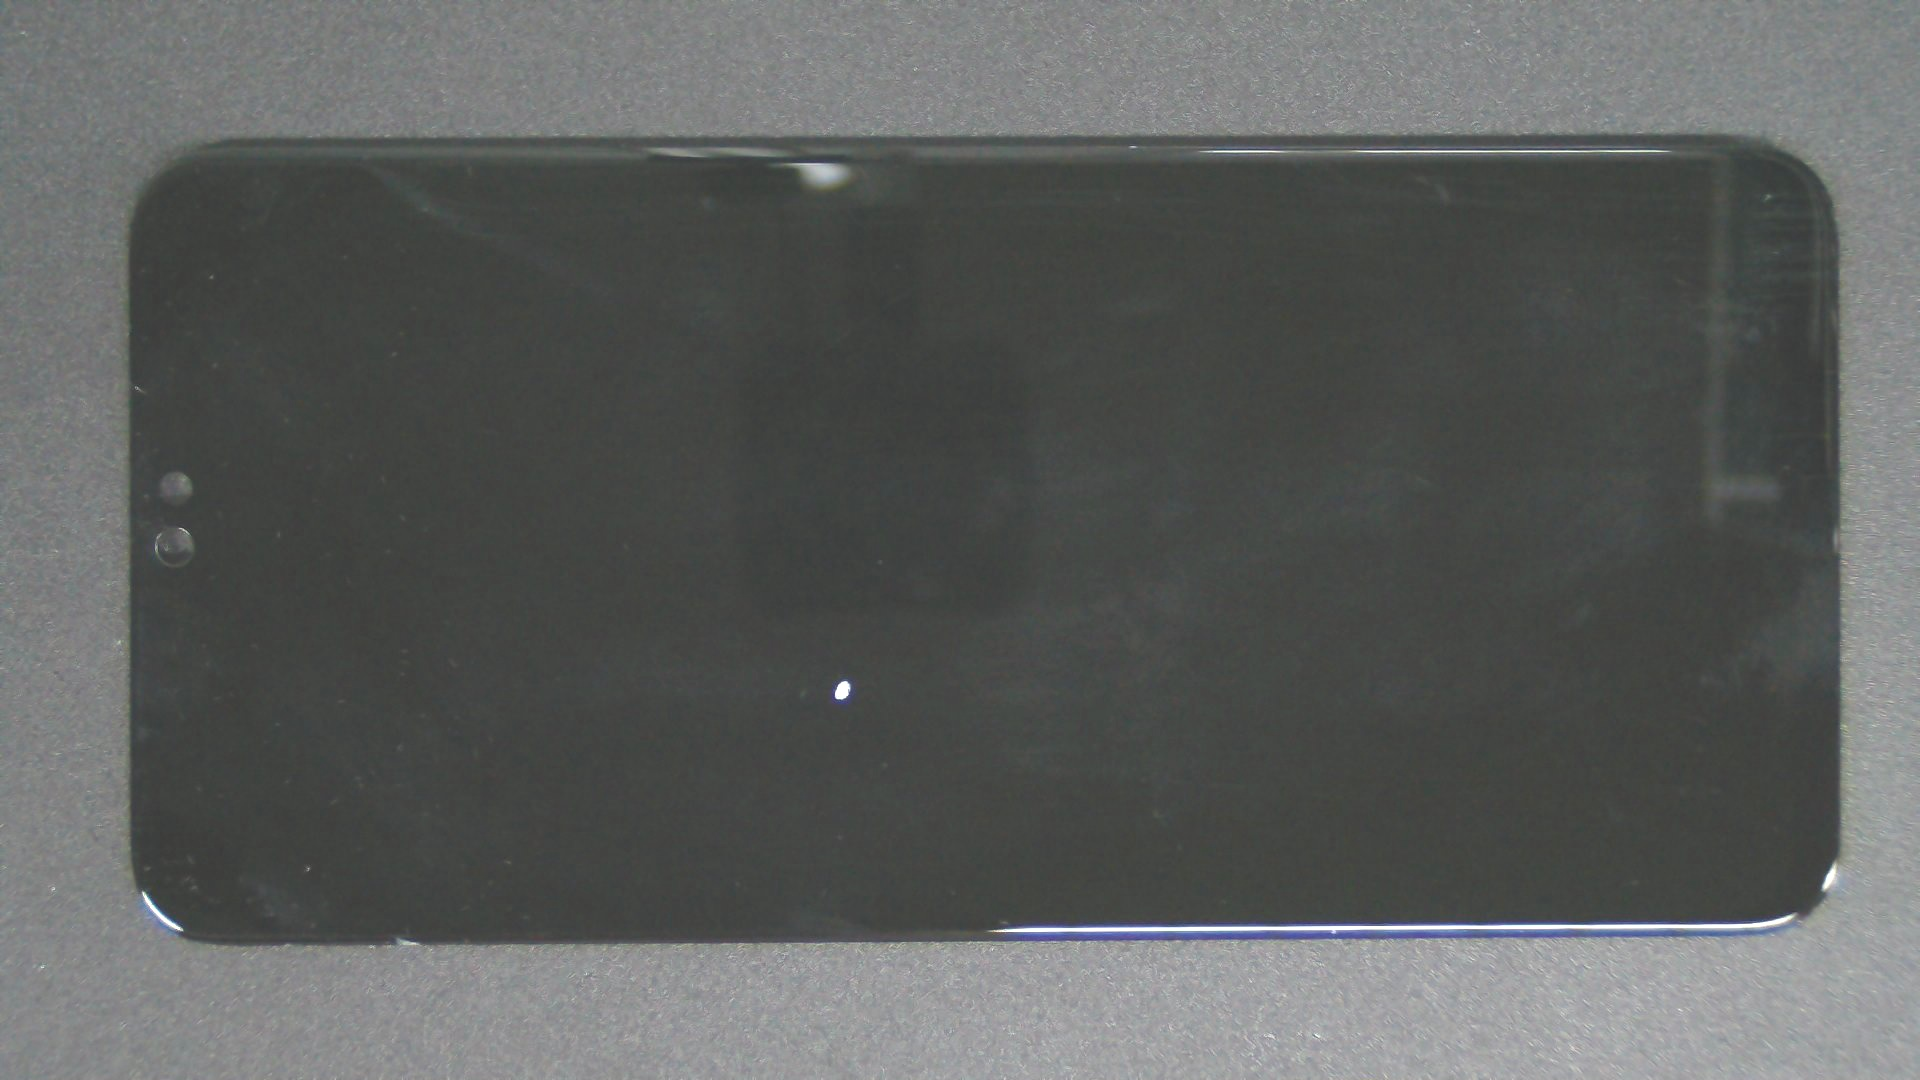oil: (422, 339, 1262, 1021)
